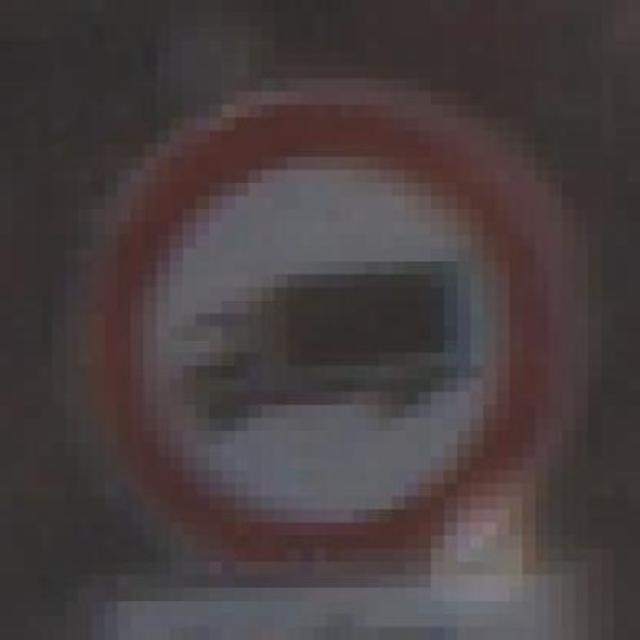Truck traffic is prohibited: (39, 66, 588, 574)
